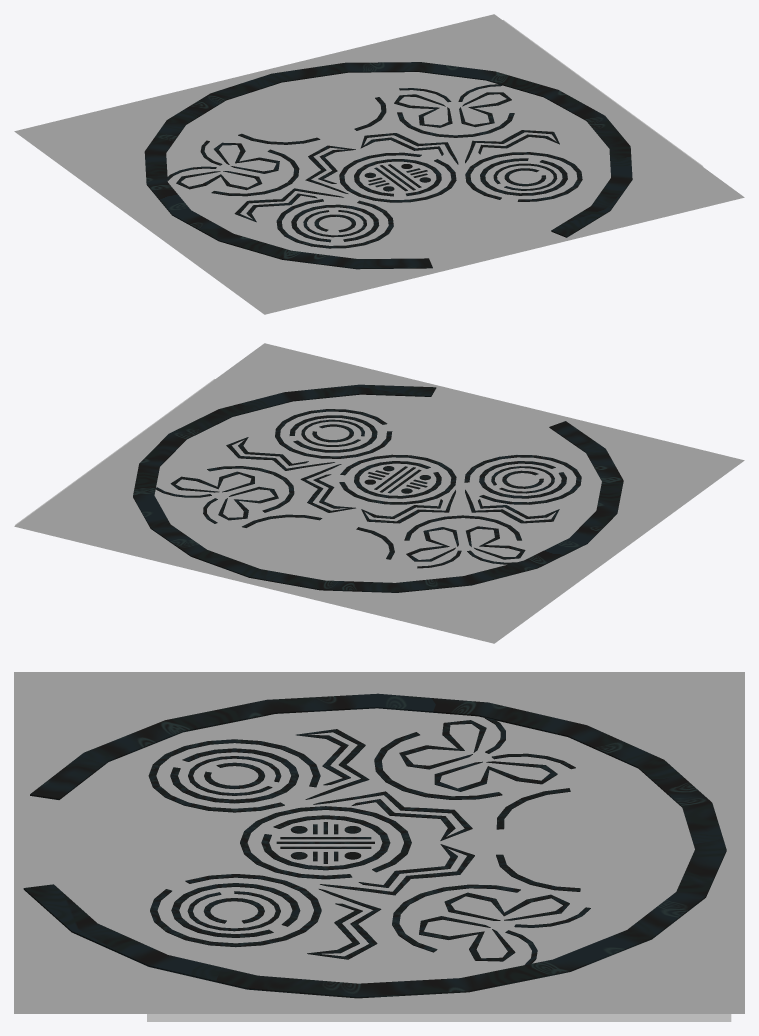
Rendered from Garden Maze Layout.fbx.
The picture shows the model from 3 angles, top to bottom: view 1: azimuth 30°, elevation 25°; view 2: azimuth 150°, elevation 25°; view 3: azimuth 270°, elevation 25°; orthographic projection. The views are drawn at different scales.
Parts seen in each view (by area): view 1: pPlane3; view 2: pPlane3; view 3: pPlane3.
Part boxes in pixels (x1,y1,x2,y2): pPlane3: (14, 14, 744, 314); pPlane3: (14, 343, 744, 643); pPlane3: (14, 672, 744, 1021).
Bounding box in the file's own units: 181 × 1.5 × 162.
